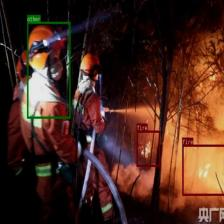fire: (181, 144, 224, 195), (136, 130, 160, 166)
